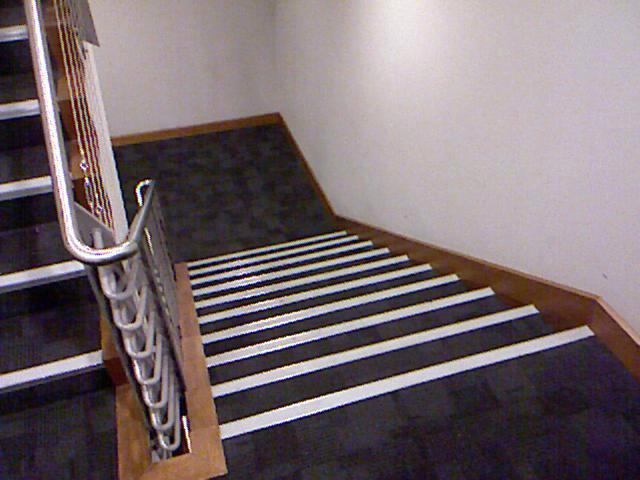Escaleras: (163, 216, 553, 452), (0, 19, 98, 446)
